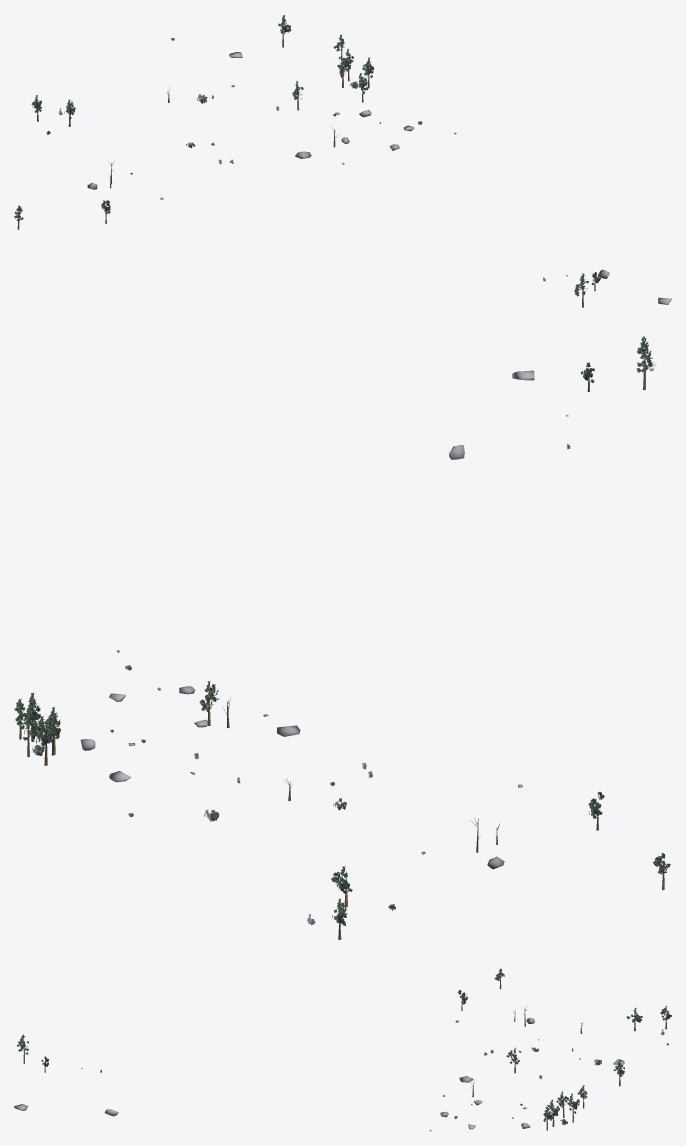
File: frost_land_scatter_c19_10.glb
3 views of the same model, one above another, from view 1: azimuth 30°, elevation 25°; view 2: azimuth 150°, elevation 25°; view 3: azimuth 270°, elevation 25° (orthographic). The views are drawn at different scales.
Parts seen in each view (by area): view 1: frost_land_scatter_c19_10; view 2: frost_land_scatter_c19_10; view 3: frost_land_scatter_c19_10.
Boxes of the visible parts, left/top/right/bottom form: frost_land_scatter_c19_10: left=14, top=15, right=671, bottom=307; frost_land_scatter_c19_10: left=14, top=336, right=670, bottom=939; frost_land_scatter_c19_10: left=14, top=968, right=671, bottom=1131.
Size of the model in its own units: 155 by 32.6 by 255.
